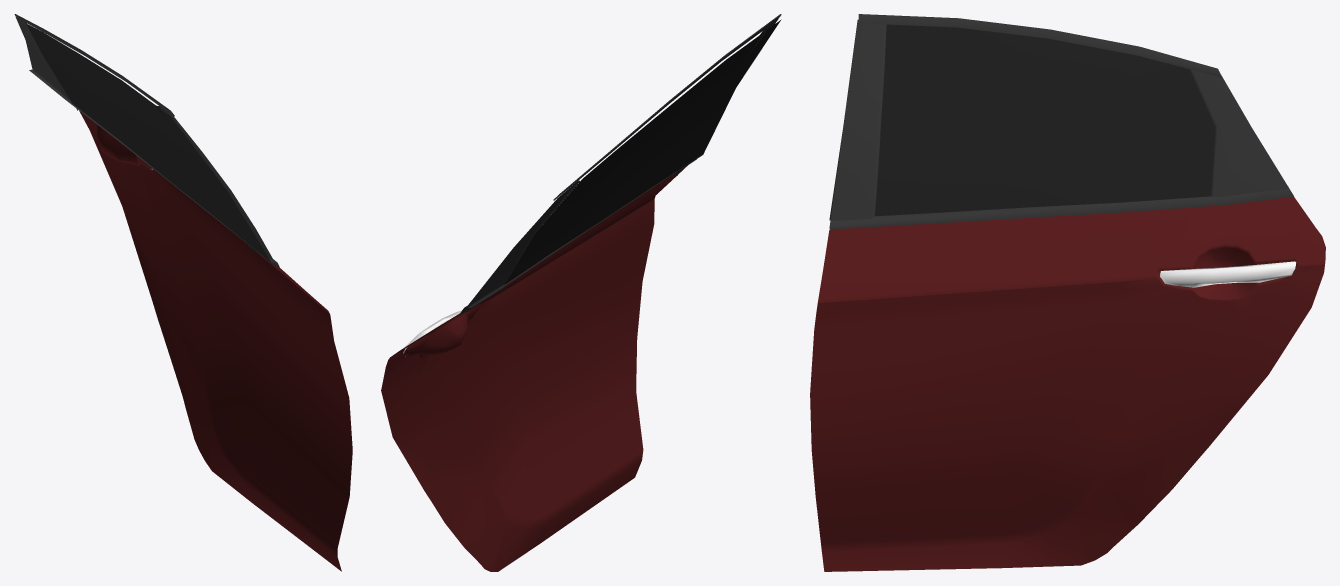
File: Honda_Civic_LB_Door.glb
The picture shows the model from 3 angles, left to right: view 1: azimuth 30°, elevation 25°; view 2: azimuth 150°, elevation 25°; view 3: azimuth 270°, elevation 25°; orthographic projection. The views are drawn at different scales.
Visible parts, largest first — view 1: Mesh_Honda_Civic_LB_Door; view 2: Mesh_Honda_Civic_LB_Door; view 3: Mesh_Honda_Civic_LB_Door.
Boxes of the visible parts, x1,y1,x2,y2 form: Mesh_Honda_Civic_LB_Door: (14,14,352,571); Mesh_Honda_Civic_LB_Door: (381,14,781,571); Mesh_Honda_Civic_LB_Door: (810,14,1325,571).
Size of the model in its own units: 17.2 by 50.04 by 48.47.
